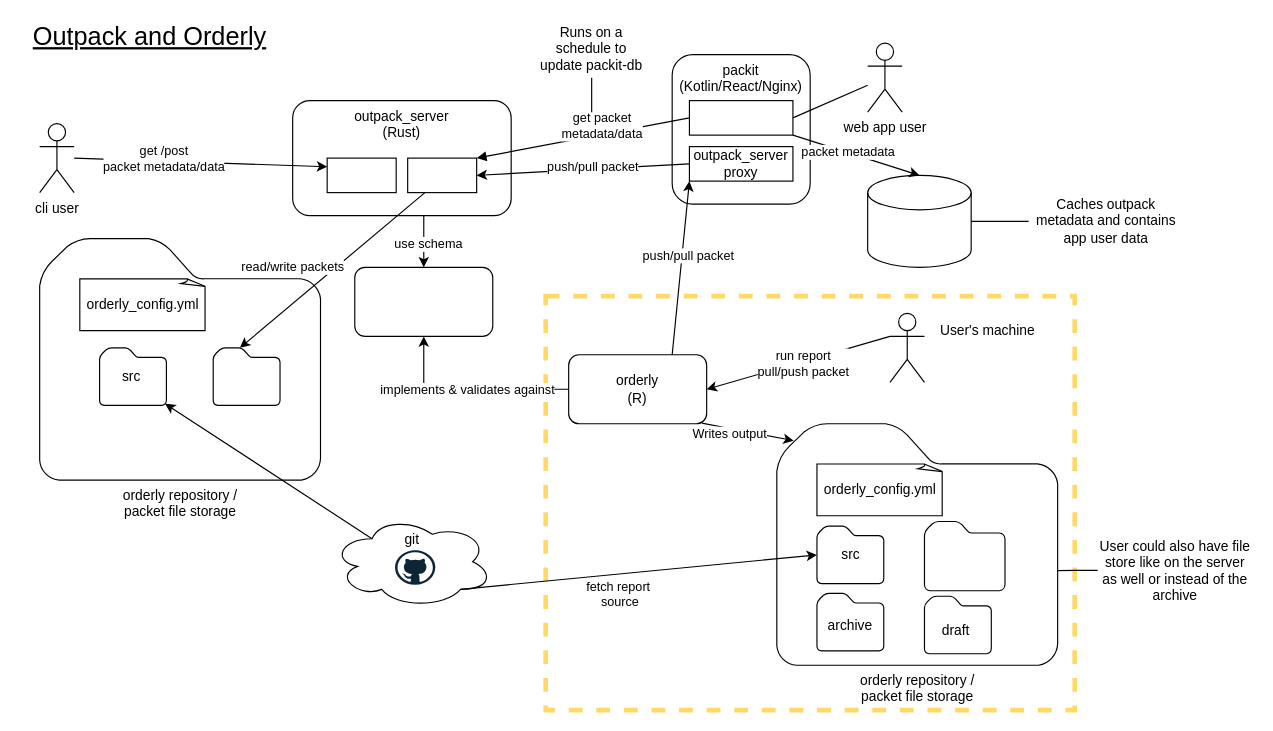
This 1273x731 diagram has some shape labels left out. Here are the shapes that lost their labels. From the top down, the centre of each, then its label:
At (x=740, y=117): "web app".
At (x=361, y=175): "cli".
At (x=442, y=175): "http".
At (x=919, y=220): "packit-db (psql)".
At (x=423, y=301): "outpack (json-schema)".
At (x=906, y=347): "orderly user".
At (x=246, y=376): ".outpack".
At (x=964, y=555): ".outpack (metadata only)".
